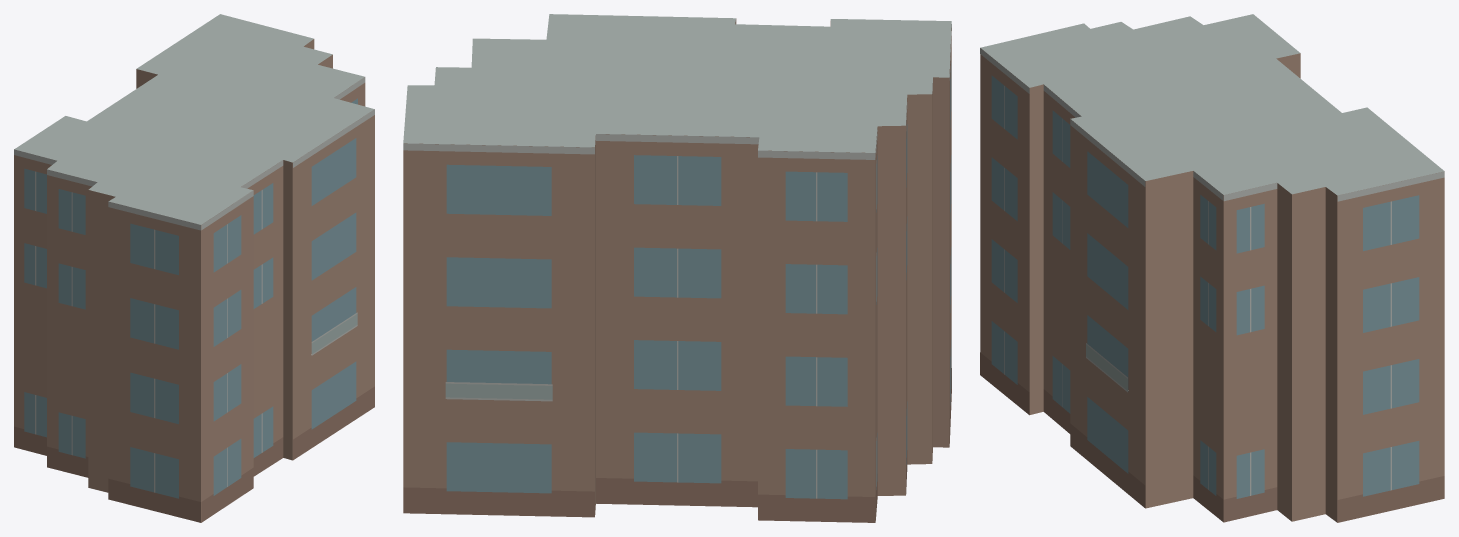
The model's file is survey-upis-32979635.glb.
3 renders of one model, left to right at view 1: azimuth 30°, elevation 25°; view 2: azimuth 150°, elevation 25°; view 3: azimuth 270°, elevation 25°, orthographic. The views are drawn at different scales.
Visible parts, largest first — view 1: survey-upis-32979635.tmp; view 2: survey-upis-32979635.tmp; view 3: survey-upis-32979635.tmp.
Part boxes in pixels (<box>): survey-upis-32979635.tmp: <box>14,14,374,522</box>; survey-upis-32979635.tmp: <box>403,14,951,522</box>; survey-upis-32979635.tmp: <box>980,14,1444,522</box>.
Size of the model in its own units: 15.29 by 12.85 by 16.54.
